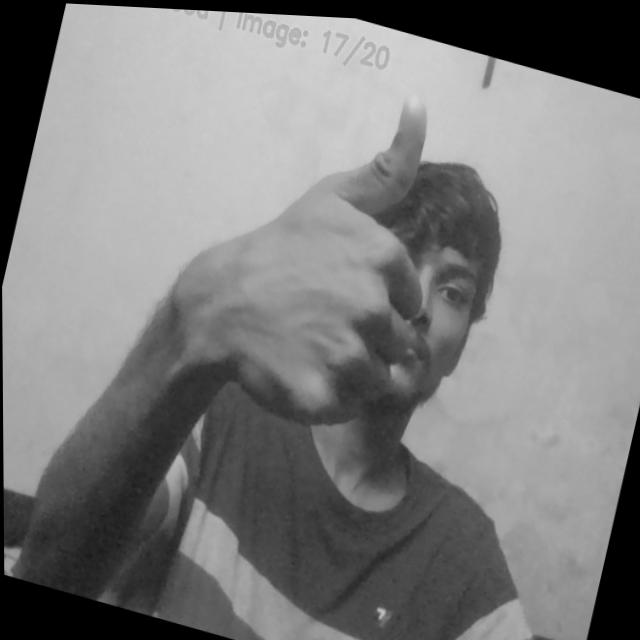Good: (197, 42, 472, 447)
